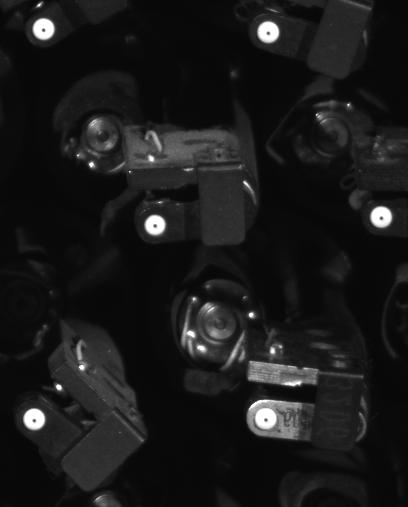fiber: (251, 16, 290, 51), (363, 201, 399, 236), (139, 208, 173, 244), (249, 403, 286, 435), (25, 13, 60, 46), (19, 402, 51, 438)
